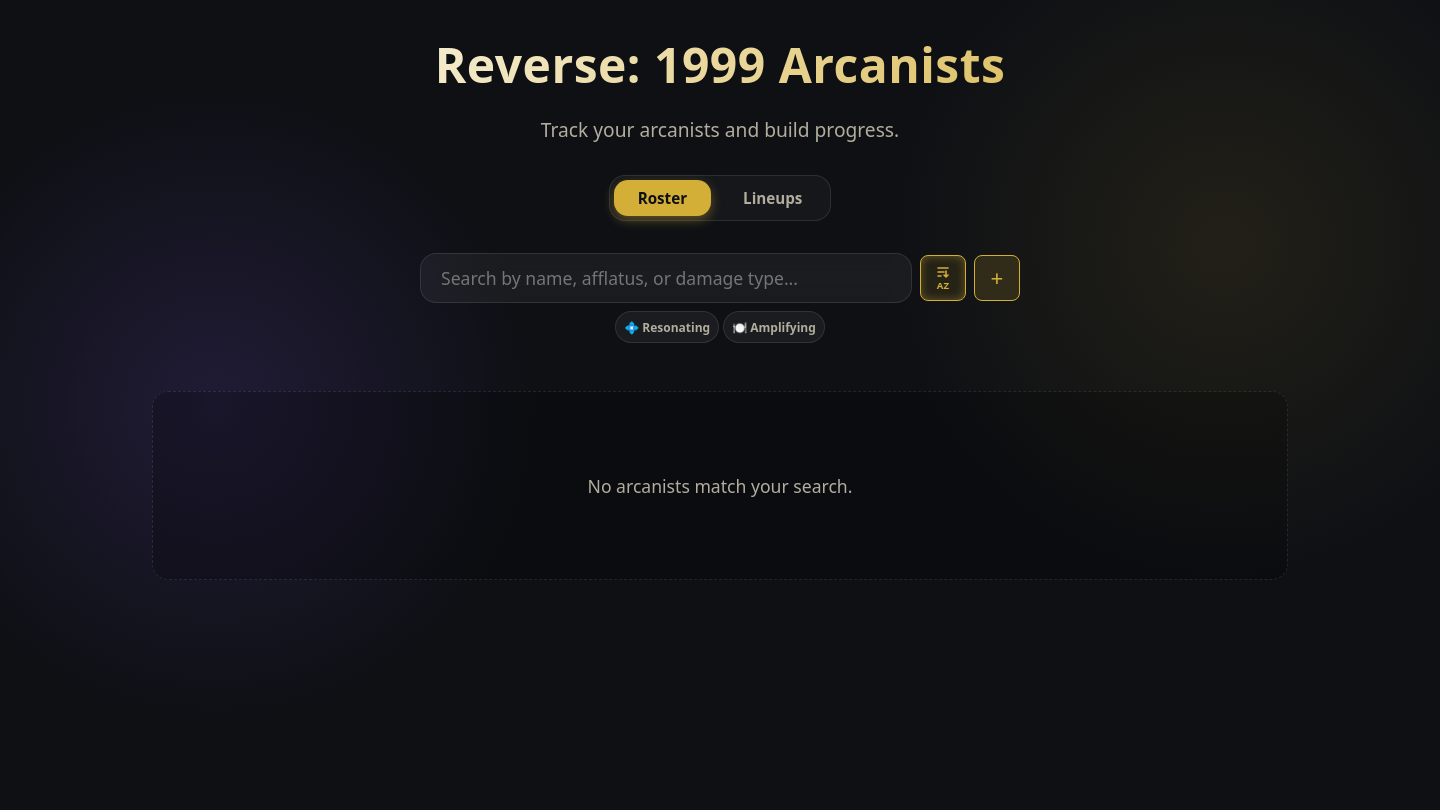
Reverse1999Page › shows the gluttony-specific empty message when only that gate matches nothing
The width and height of the screenshot is (1440, 810).
What coordinates should you click on to do the following:
click the button "🍽️ Amplifying"
I would click on:
 (774, 327)
Its box is [723,311,825,343].
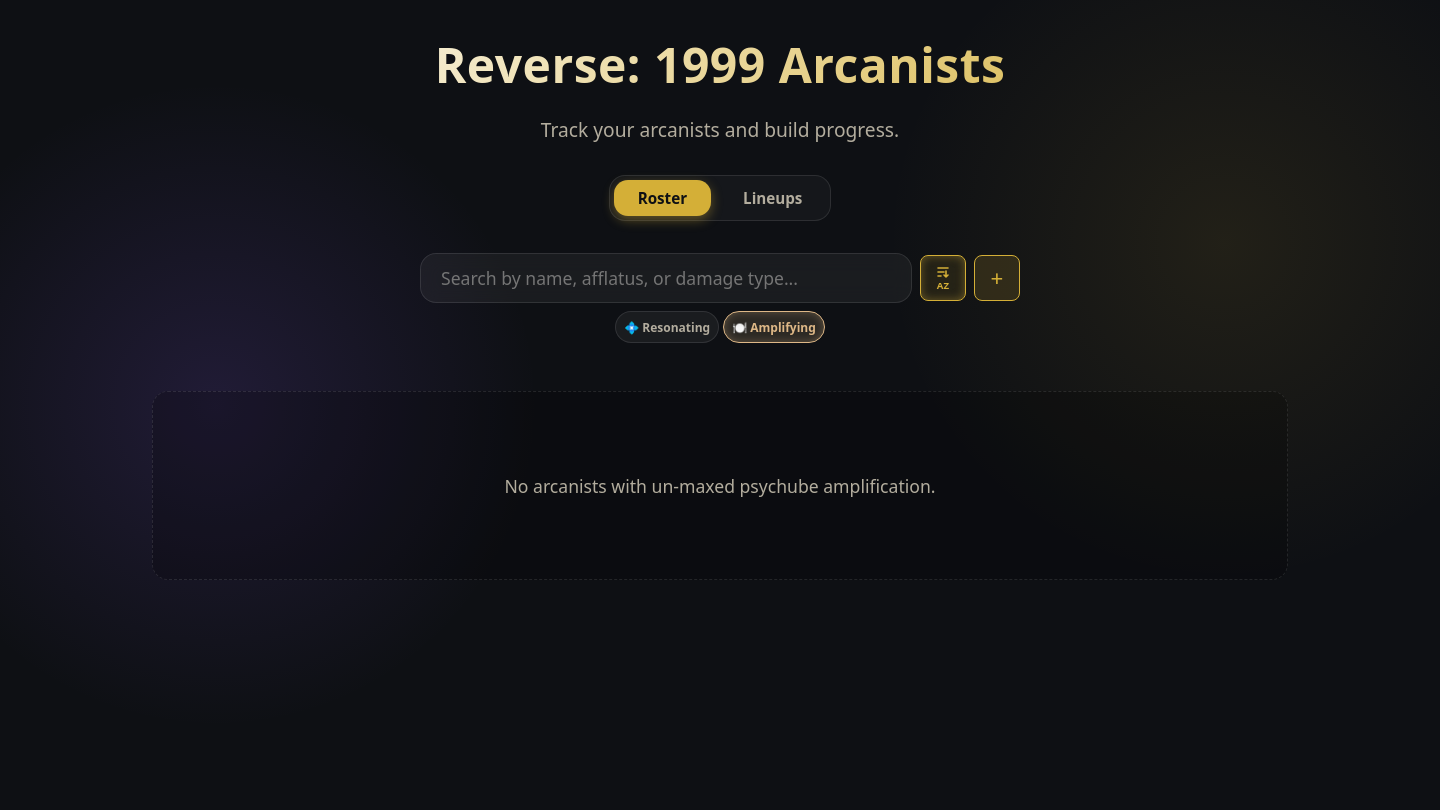
Expected: the text "No arcanists with un-maxed psychube amplification." is shown, [504,474,936,498]
